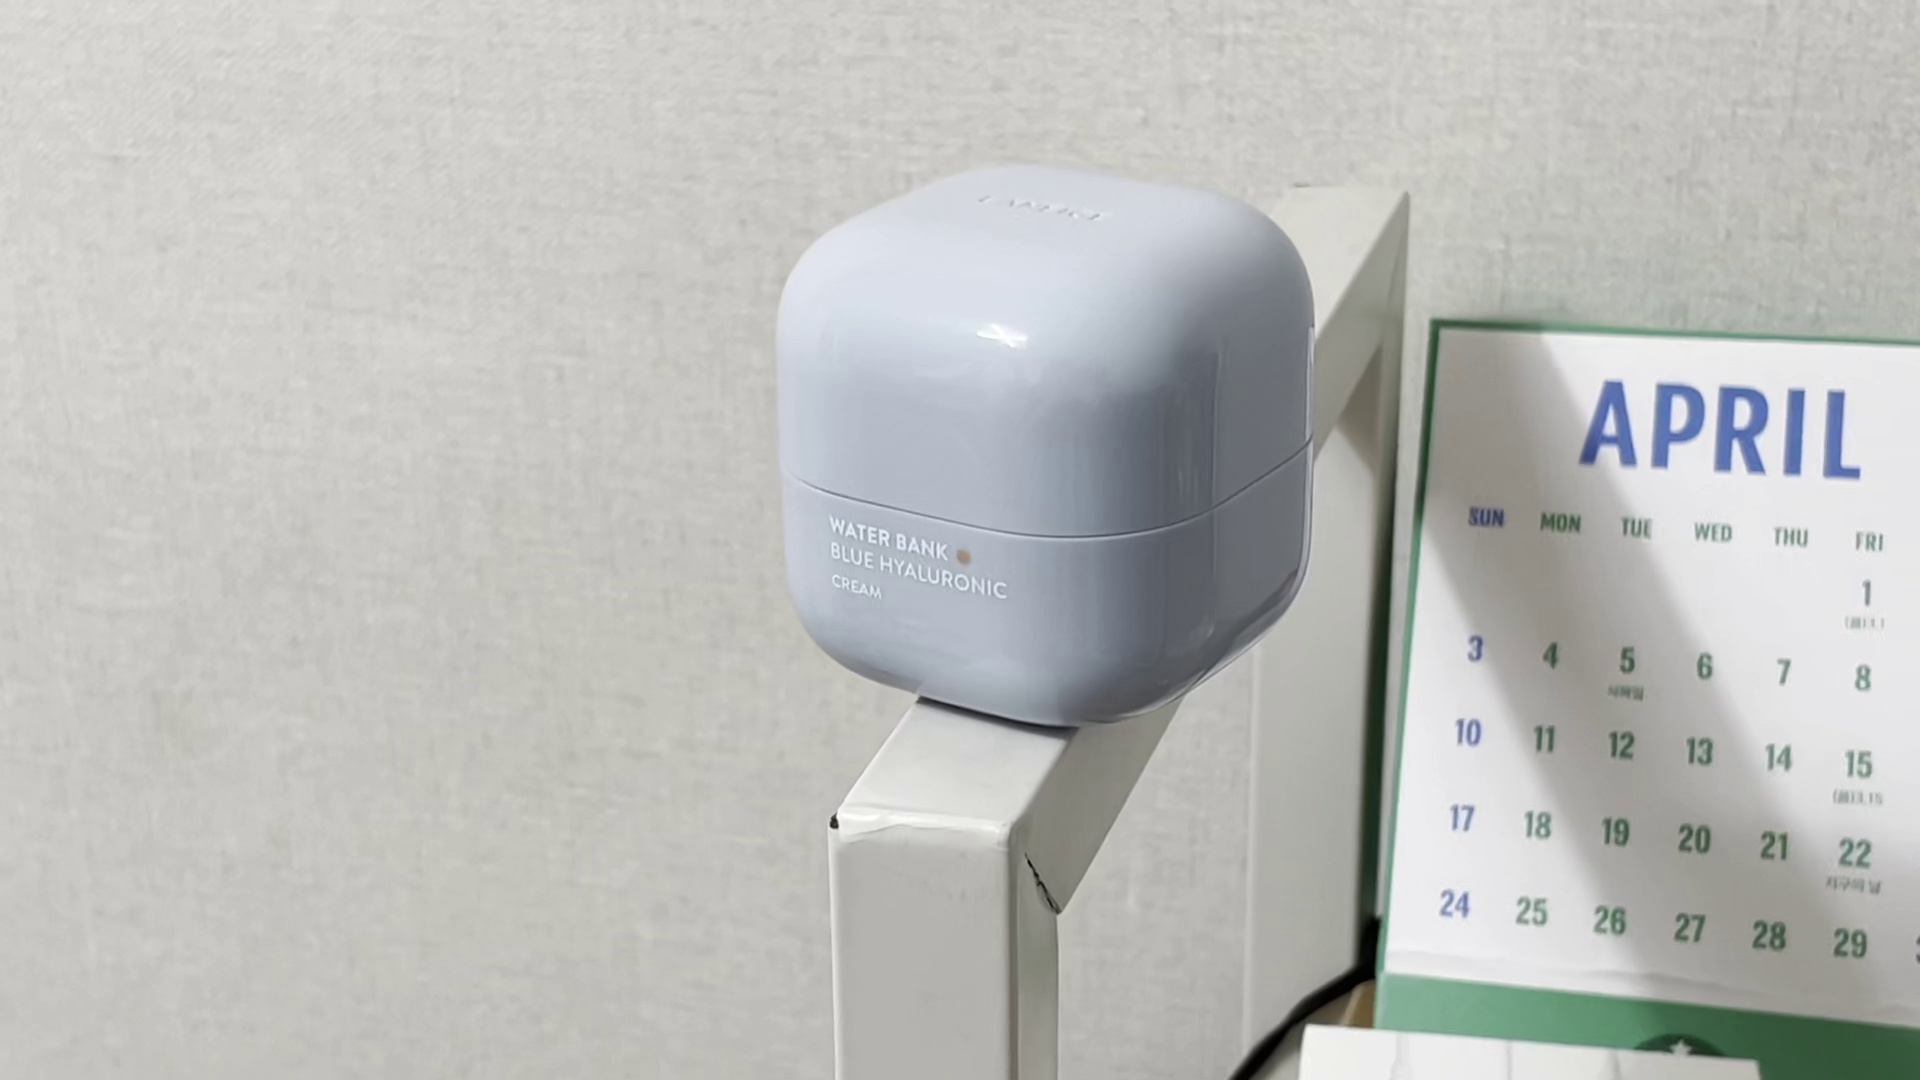cream: (777, 162, 1309, 725)
